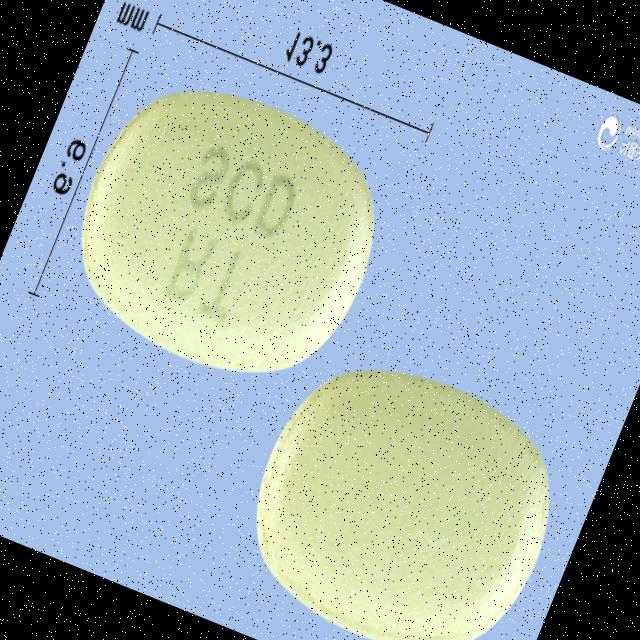Retos Tab: (42, 60, 406, 411), (218, 331, 588, 640)
